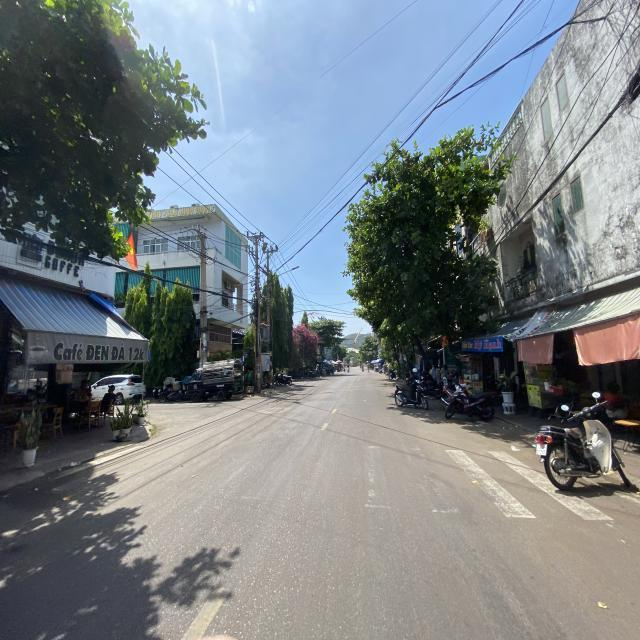walk-crossing: (89, 445, 615, 526)
